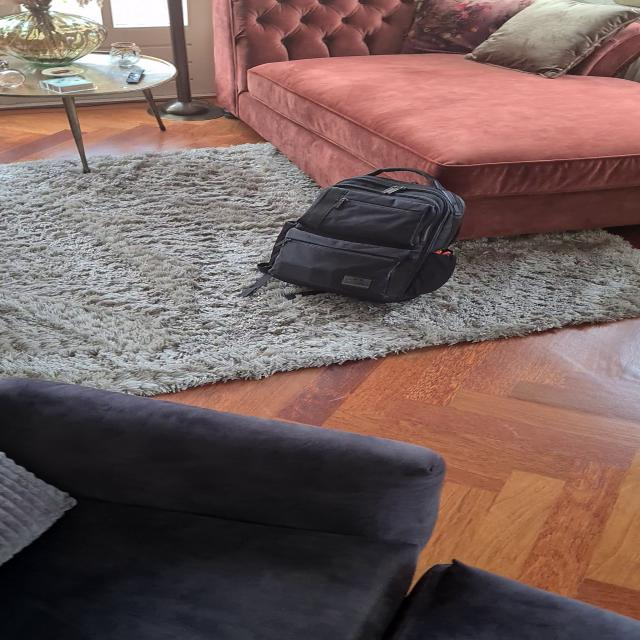backpack: (253, 163, 473, 308)
